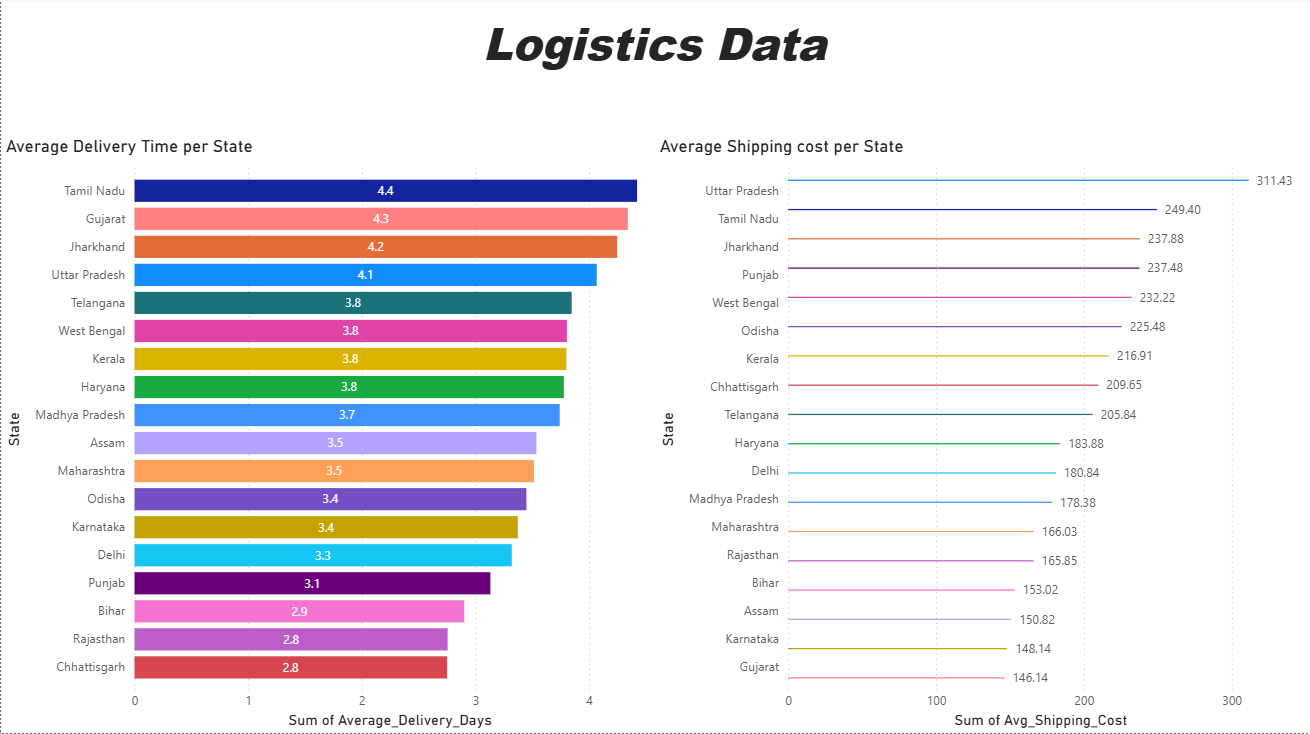

This screenshot's page, from the dashboard's own definition file:
{"tool":"powerbi","page":{"name":"Page 3","canvas":[1280,720],"ordinal":2},"visuals":[{"type":"textbox","box":[304.6,9.6,669.6,93.3],"z":0},{"type":"barChart","title":"Average Delivery Time per State","fields":{"Category":["StateSalesSummary.State"],"Y":["Sum(StateSalesSummary.Average_Delivery_Days)"],"Series":["StateSalesSummary.State"]},"box":[0,135.4,640.1,585.2],"z":1},{"type":"clusteredBarChart","title":"Average Shipping cost per State","fields":{"Category":["StateSalesSummary.State"],"Y":["Sum(StateSalesSummary.Avg_Shipping_Cost)"],"Series":["StateSalesSummary.State"]},"box":[640.1,135.4,640.1,585.2],"z":2}]}

Visuals, with their boxes in screenshot pixels (x1, y1, x2, y2), scaled from the page's 1280x720 canvas onto the 1310x734 screenshot:
textbox: (x1=312, y1=10, x2=997, y2=105)
"Average Delivery Time per State" barChart: (x1=0, y1=138, x2=655, y2=733)
"Average Shipping cost per State" clusteredBarChart: (x1=655, y1=138, x2=1309, y2=733)
